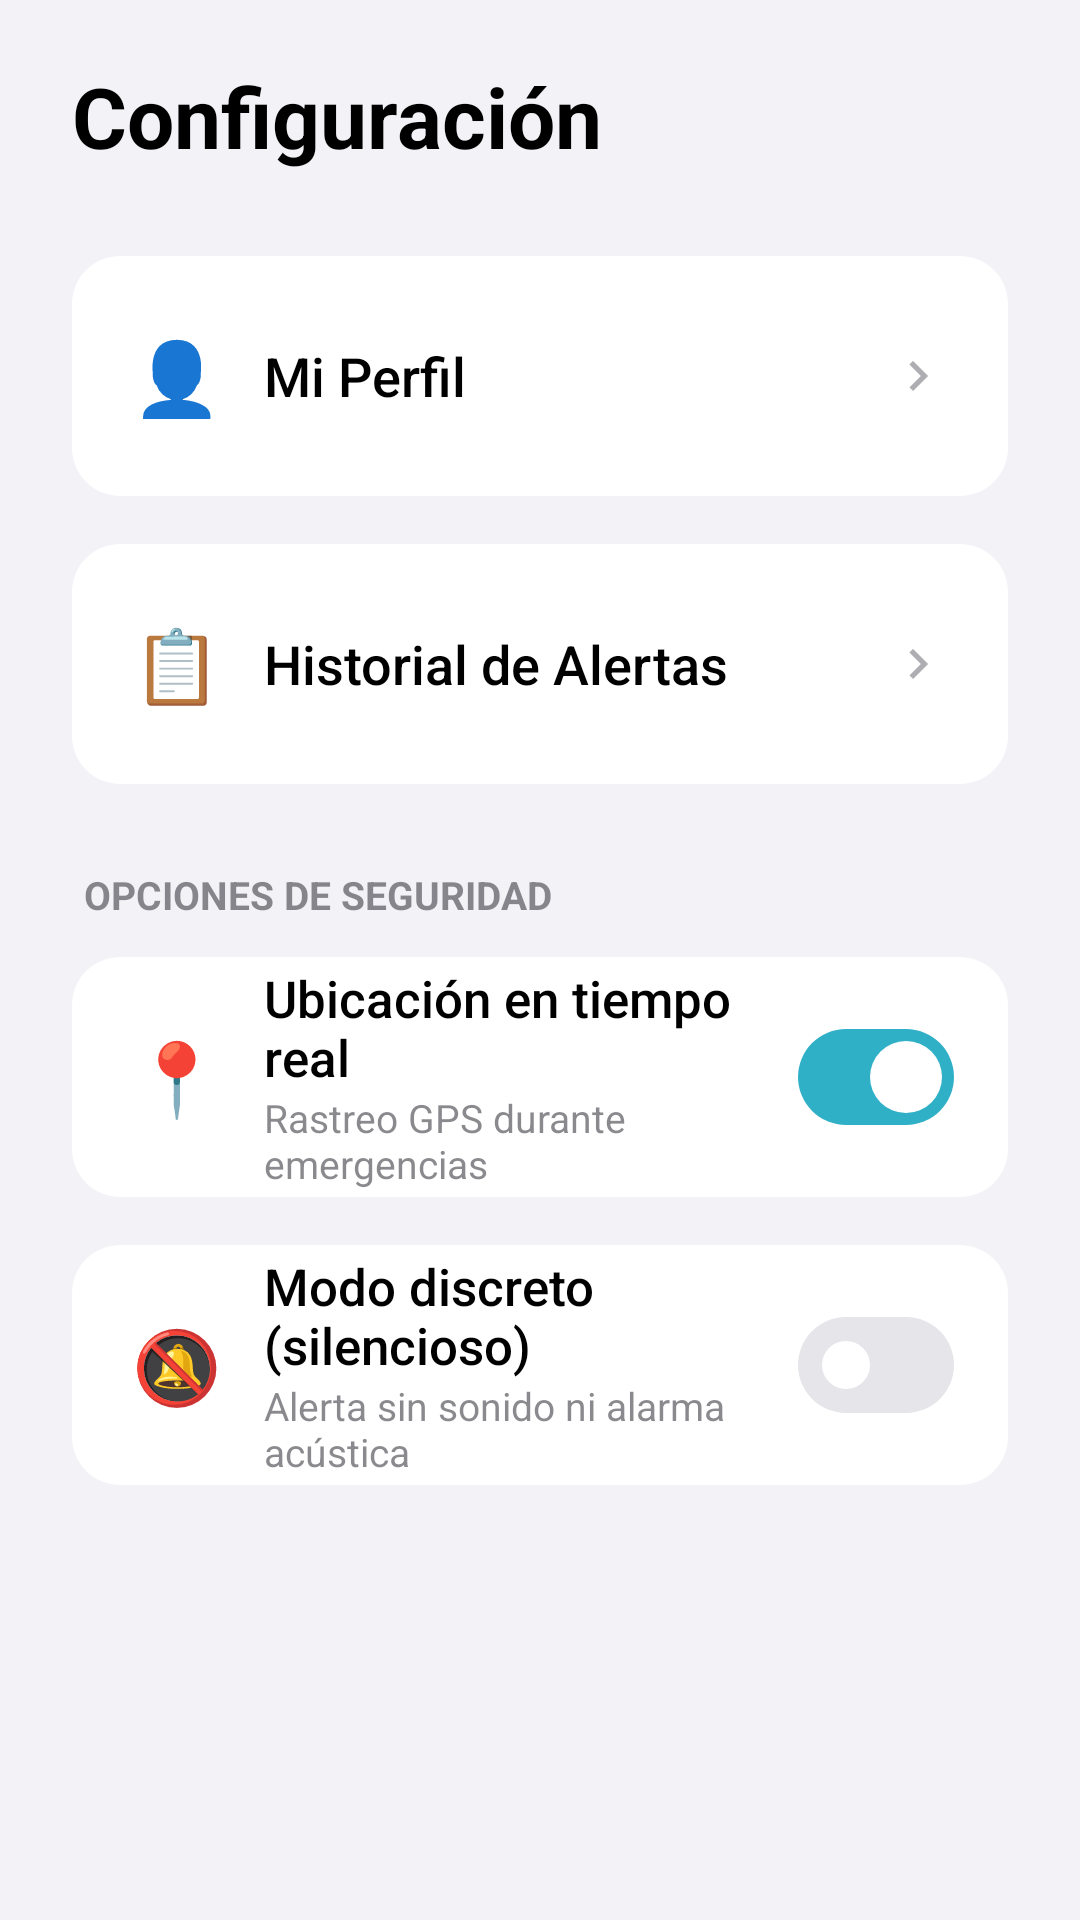

Screen size 1080*1920. Icon name, then its center in pixels as (x=x, y=y):
chevron right: (x=918, y=376), (x=918, y=664)
